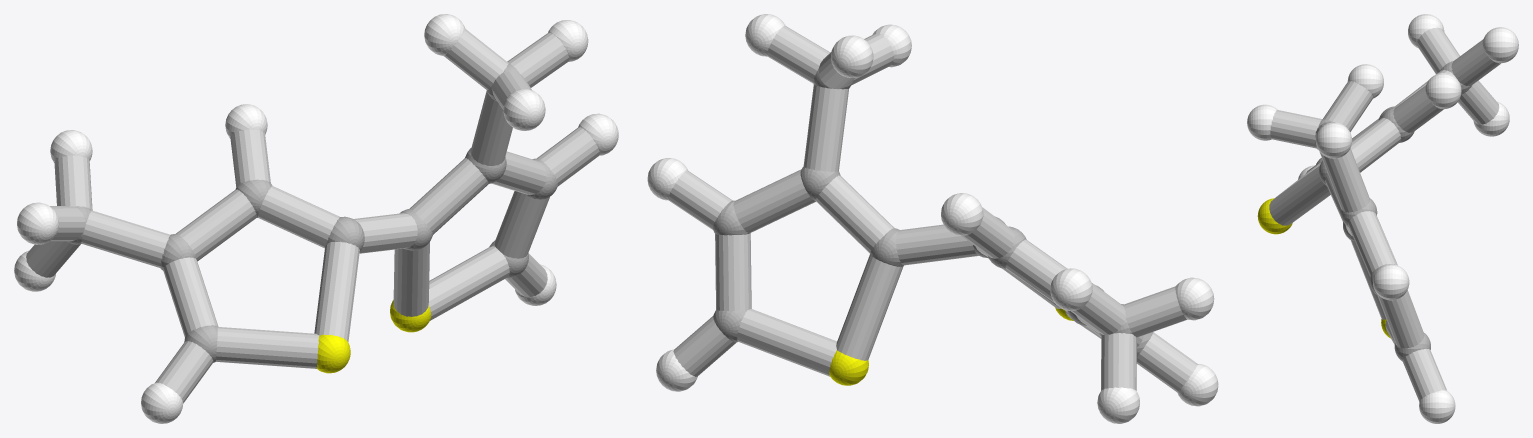
The model's file is Methylthiophene_Phi_40_Theta_250_Methylthiophene.glb.
3 renders of one model, left to right at view 1: azimuth 30°, elevation 25°; view 2: azimuth 150°, elevation 25°; view 3: azimuth 270°, elevation 25°, orthographic. The views are drawn at different scales.
Parts seen in each view (by area): view 1: grp7965, grp3621, grp1, grp7241; view 2: grp7965, grp3621, grp1, grp7241; view 3: grp7965, grp3621, grp1, grp7241.
Part boxes in pixels (box(x1,y1,x2,y2)): grp7965: box(26, 29, 599, 403); grp3621: box(14, 14, 618, 423); grp1: box(67, 63, 557, 362); grp7241: box(317, 300, 431, 373); grp7965: box(668, 26, 1197, 392); grp3621: box(647, 14, 1218, 423); grp1: box(713, 69, 1153, 356); grp7241: box(829, 307, 1073, 385); grp7965: box(1269, 27, 1500, 401); grp3621: box(1247, 14, 1518, 423); grp1: box(1315, 61, 1472, 361); grp7241: box(1257, 198, 1390, 338).
Bounding box in the file's own units: 9.41 × 5.47 × 4.47.
